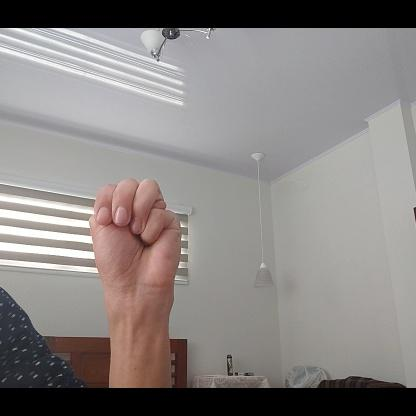M: (88, 181, 182, 294)
